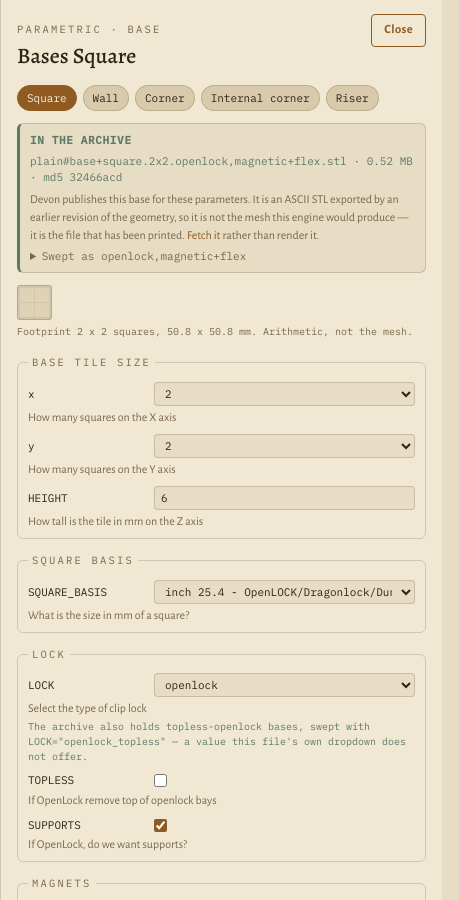
Scenario: the form › changes shape and takes that shape’s opening state with it
The width and height of the screenshot is (459, 900).
Click the button "Riser" at [352, 98], box [326, 85, 379, 111]
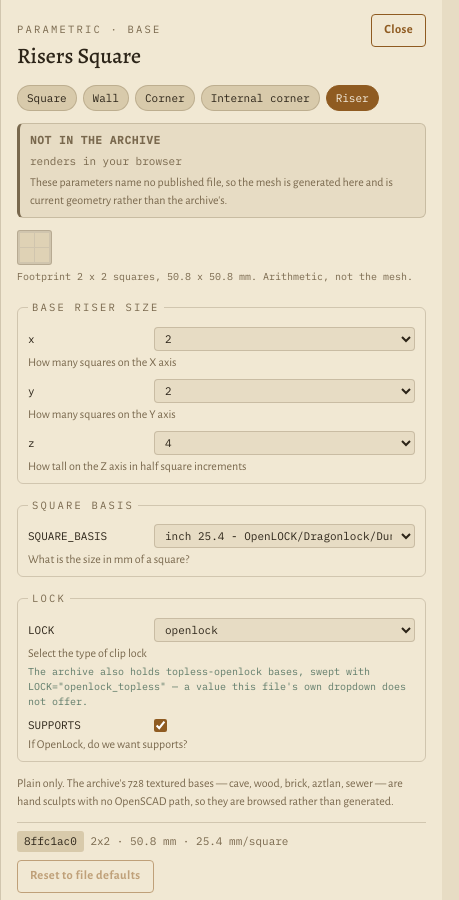
Expected: the field labelled "MAGNETS" is not shown
Expected: the dropdown labelled "z" is shown, [154, 431, 415, 455]
